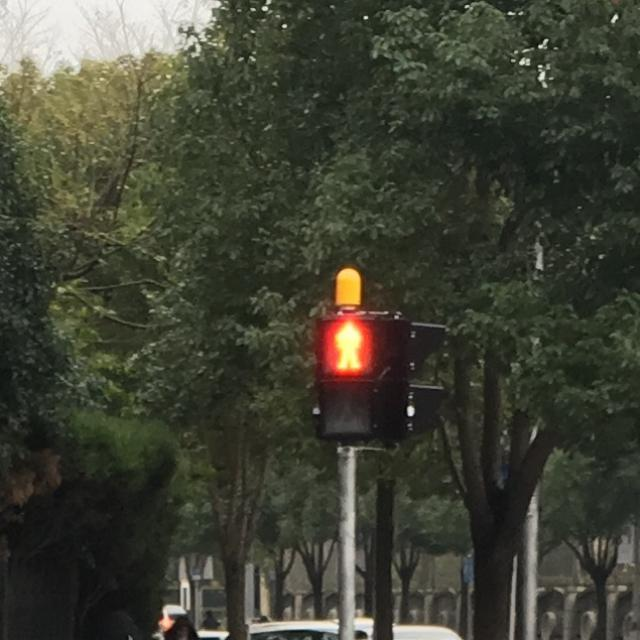red-crossing: (319, 318, 377, 381)
